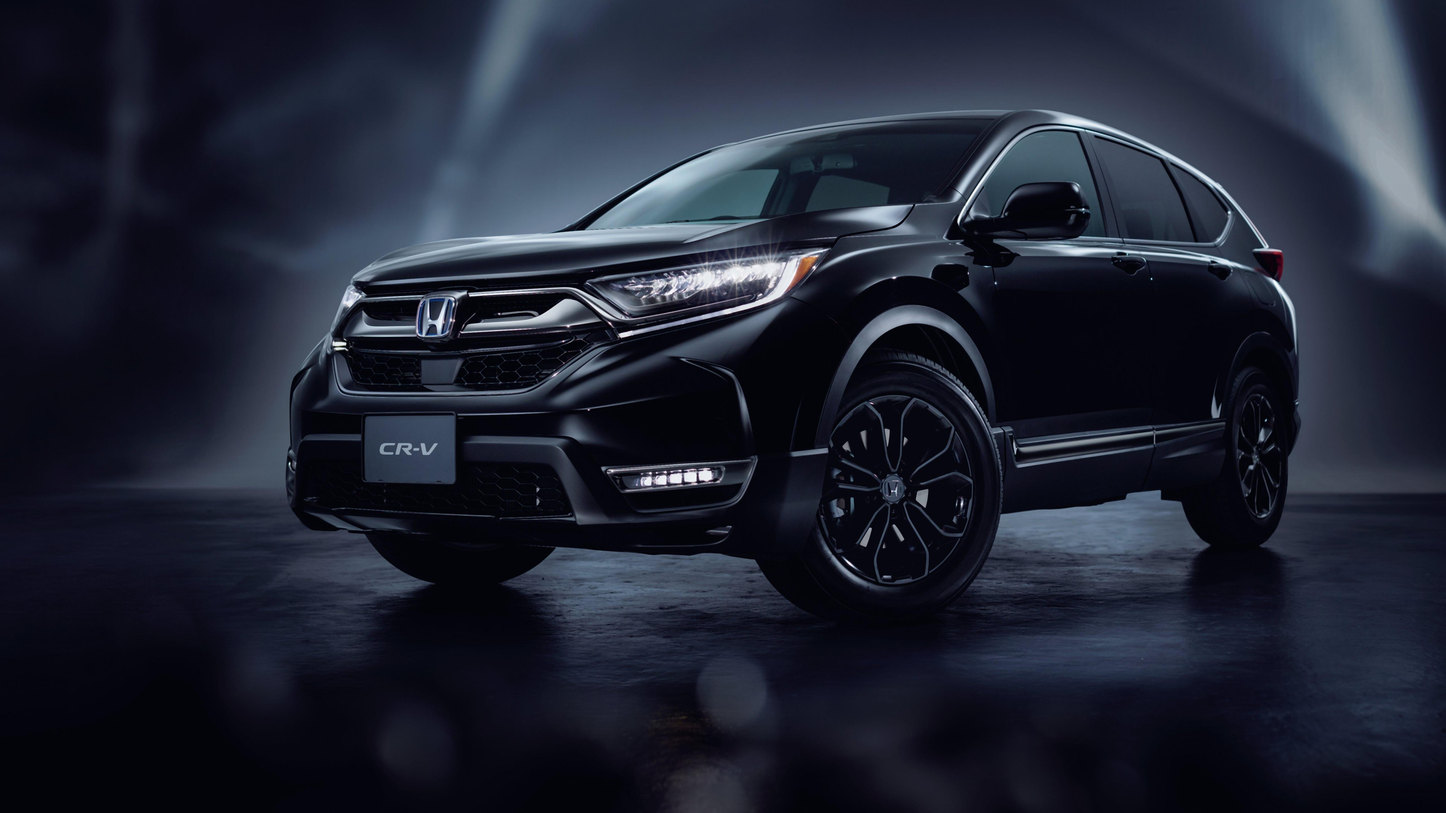Car hood: (348, 199, 914, 288)
Fender - -F-L-: (789, 182, 1018, 491)
Fender - -R-L-: (1203, 250, 1305, 481)
Front bumper: (281, 314, 830, 566)
Headlight - -L-: (569, 240, 842, 338)
Headlight - -R-: (328, 268, 369, 326)
Passenger-s door - -F-L-: (973, 114, 1157, 443)
Passenger-s door - -R-L-: (1101, 122, 1267, 432)
Rear bumper: (1275, 341, 1322, 479)
Rear light - -L-: (1244, 229, 1296, 280)
Side bumper - -L-: (987, 400, 1240, 514)
Side mirror - -L-: (982, 161, 1100, 245)
